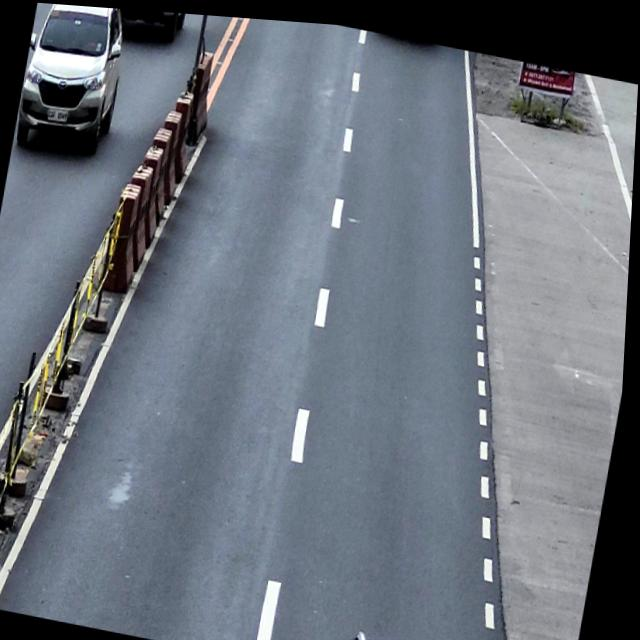Car: (14, 1, 133, 156), (333, 614, 507, 640), (102, 6, 188, 44)
License-Plate: (48, 104, 70, 121)
